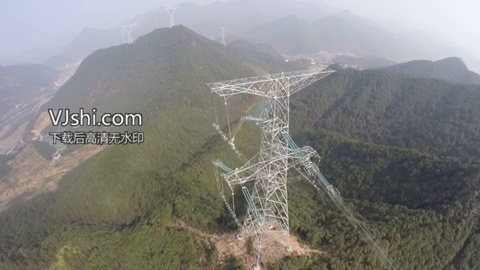tower_body: (198, 64, 341, 267)
tower_foot: (238, 209, 298, 264)
tower_head: (201, 66, 335, 100)
